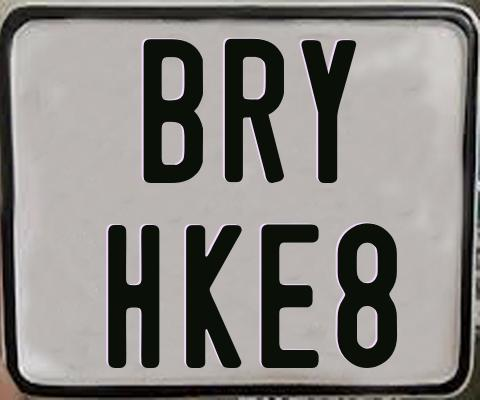8: (334, 221, 395, 370)
B: (142, 36, 207, 182)
E: (261, 224, 324, 374)
H: (105, 222, 160, 366)
K: (186, 224, 244, 368)
R: (224, 38, 287, 185)
Y: (301, 37, 357, 181)
